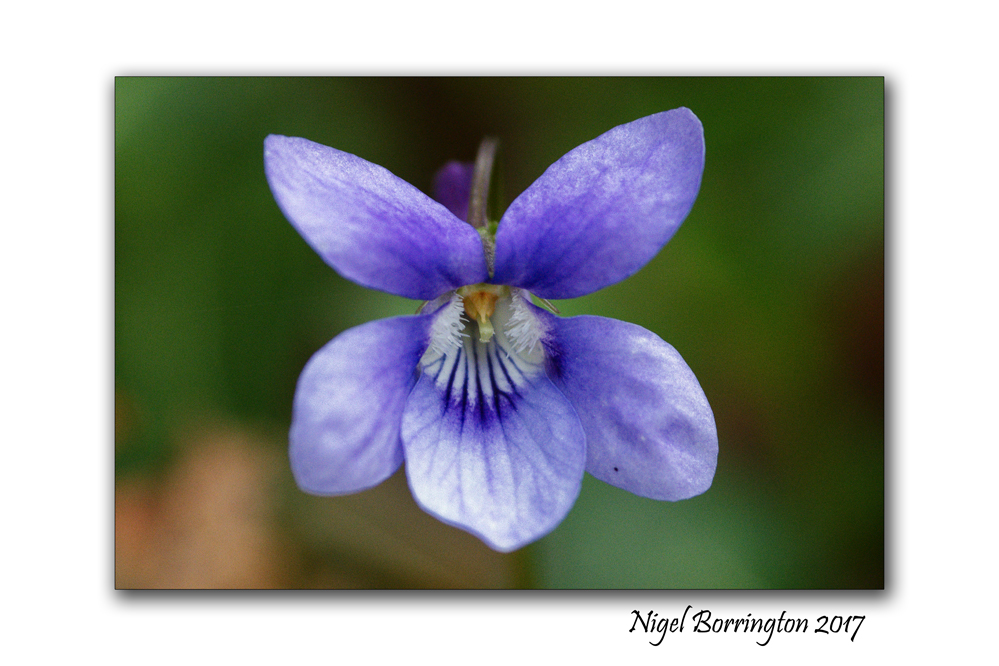violet: (249, 128, 719, 559)
